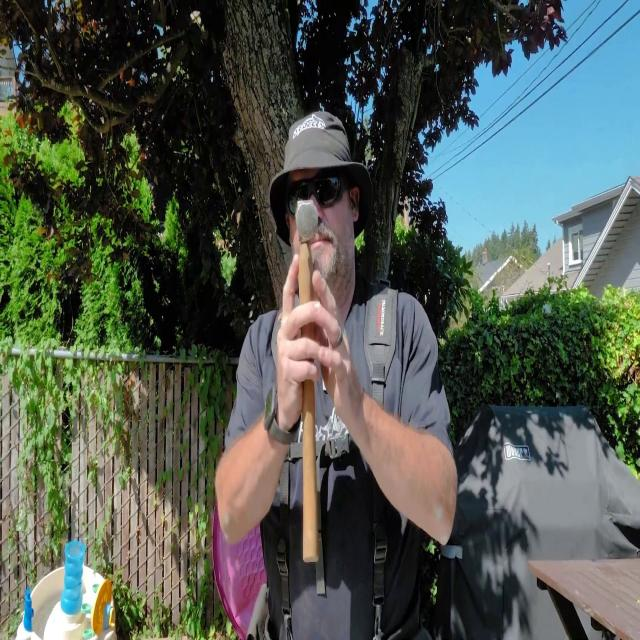hammer: (295, 198, 319, 562)
